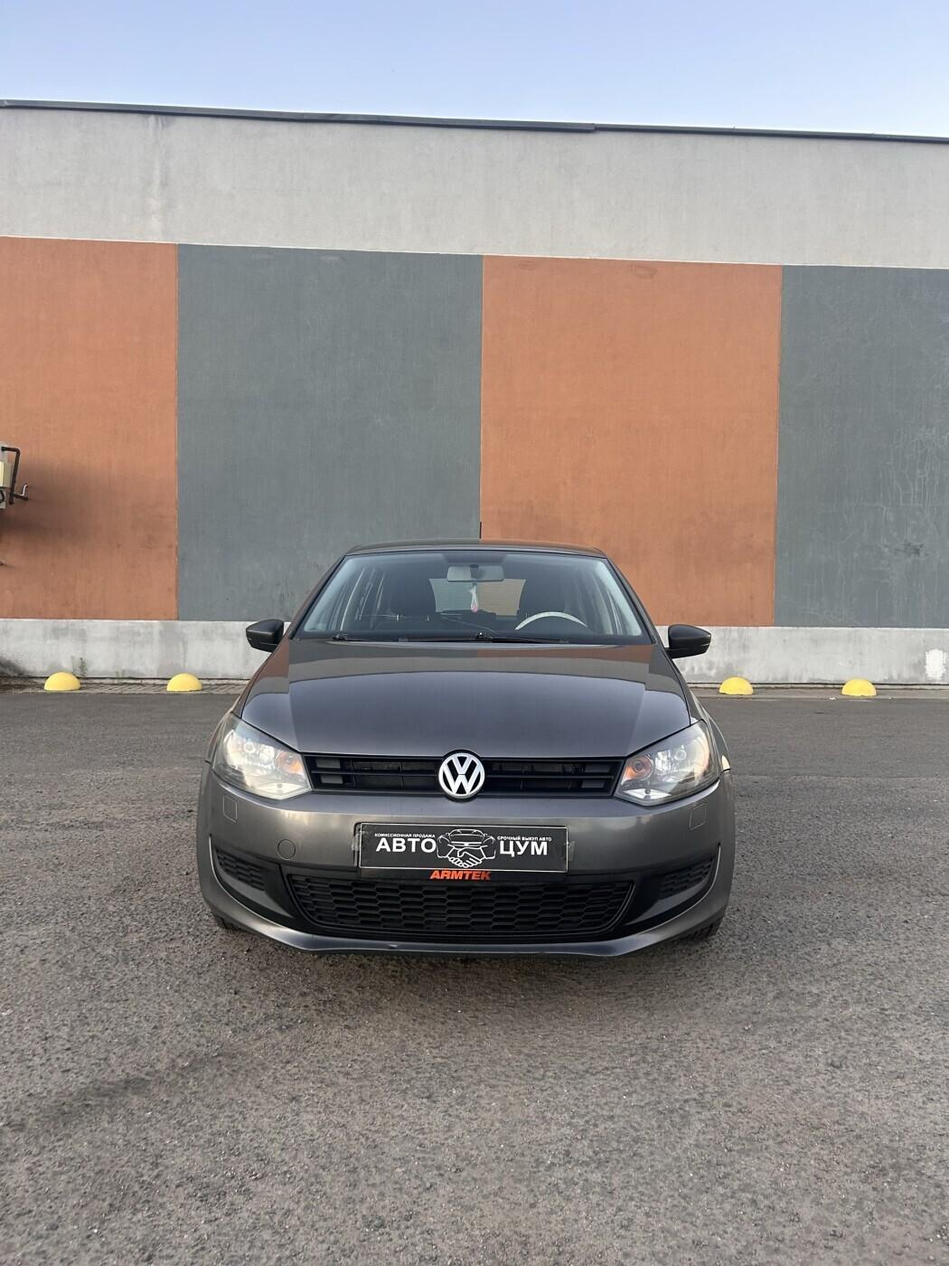Polo_2009-2015: (182, 517, 750, 972)
